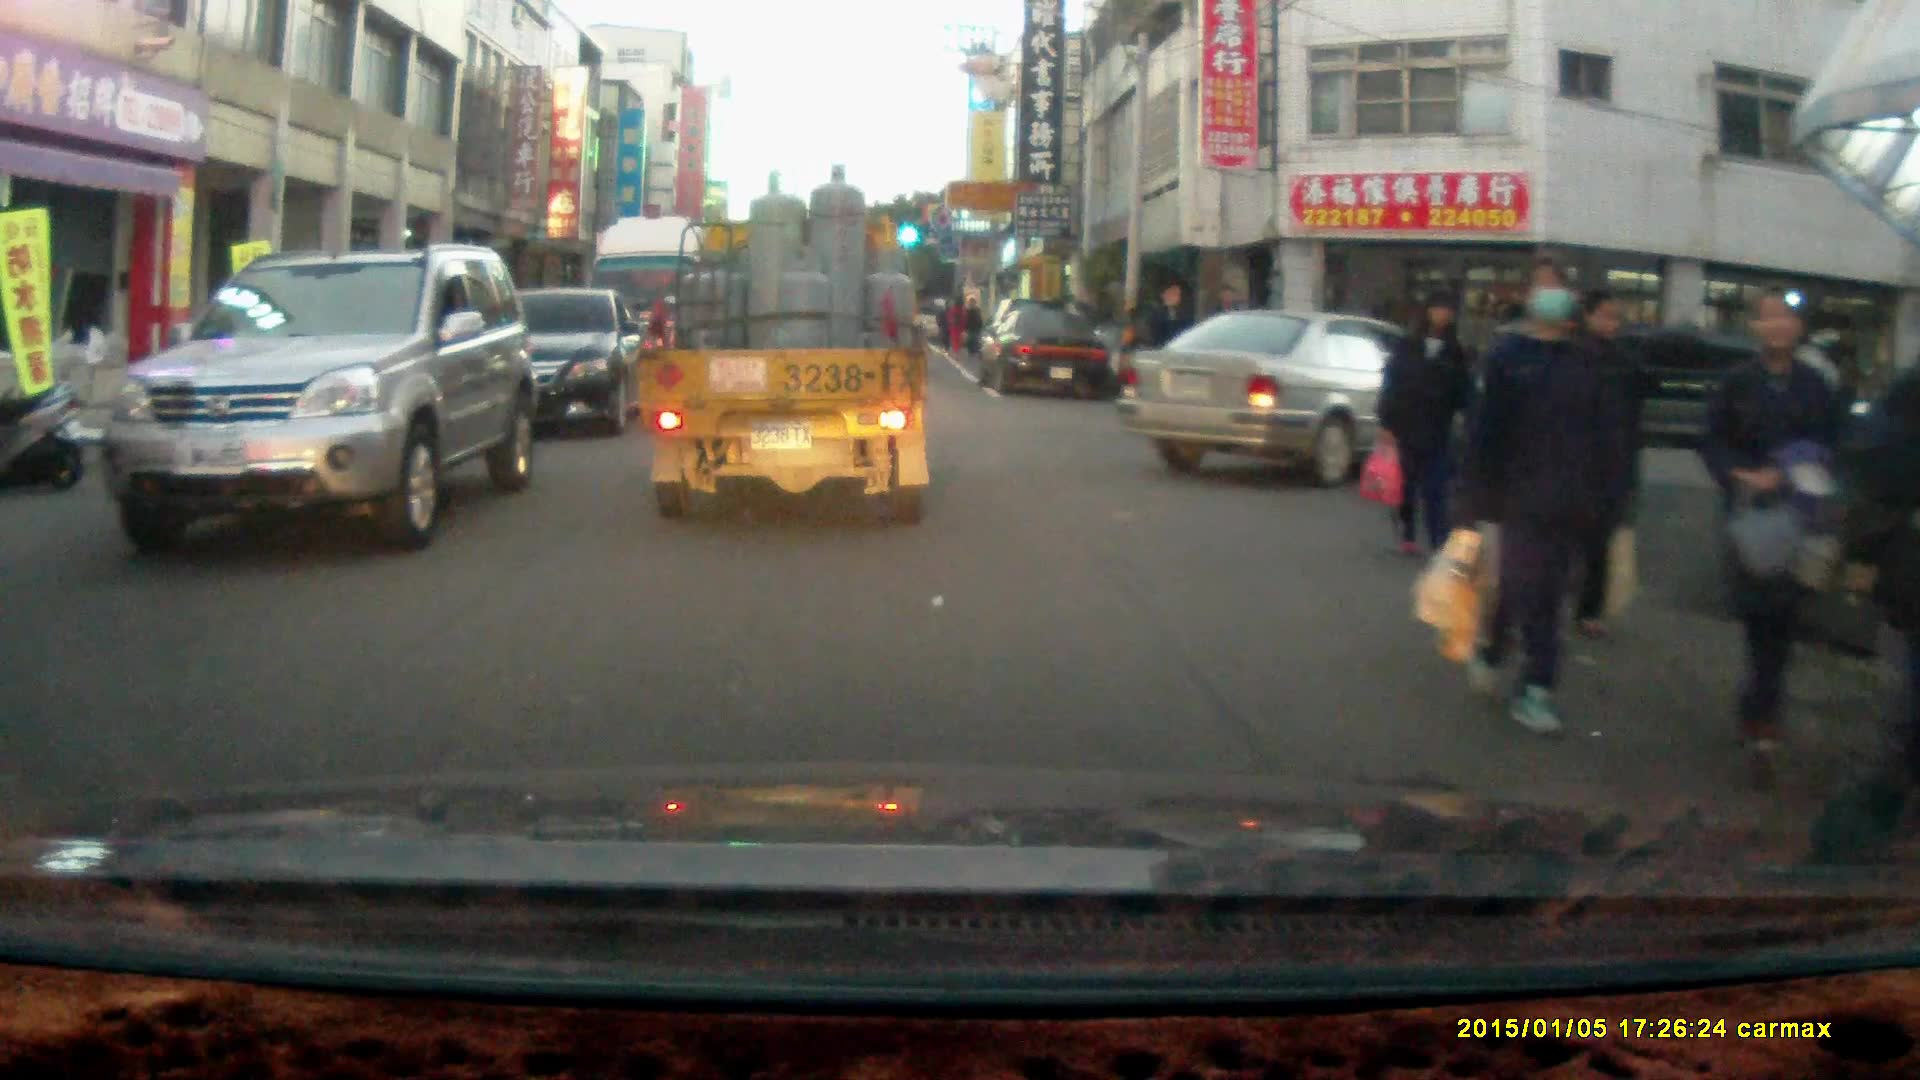pedestrian: (1466, 255, 1634, 739), (1699, 280, 1846, 781), (1375, 284, 1480, 575), (1147, 278, 1202, 444)
vehicle: (101, 243, 535, 550), (634, 159, 935, 522), (1120, 309, 1517, 487), (434, 286, 643, 435), (586, 213, 746, 401), (980, 299, 1114, 395)
